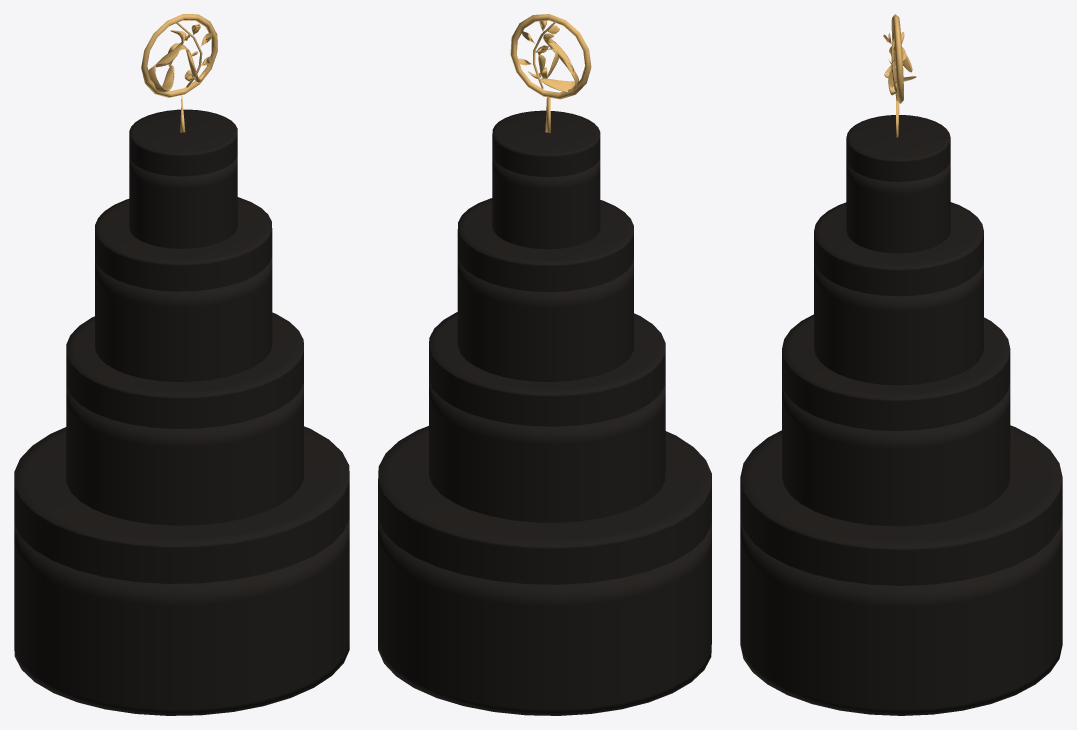
Rendered from 4-tier-black-none-ring.glb.
The picture shows the model from 3 angles, left to right: view 1: azimuth 30°, elevation 25°; view 2: azimuth 150°, elevation 25°; view 3: azimuth 270°, elevation 25°; orthographic projection.
Parts seen in each view (by area): view 1: 3.001, 3, 2, 1, Cylinder.006; view 2: 3.001, 3, 2, 1, Cylinder.006; view 3: 3.001, 3, 2, 1, Cylinder.006.
Part boxes in pixels (x1,y1,x2,y2): 3.001: (14, 426, 349, 715); 3: (66, 312, 303, 525); 2: (95, 197, 272, 381); 1: (129, 109, 237, 248); Cylinder.006: (141, 14, 217, 132); 3.001: (378, 426, 711, 715); 3: (429, 312, 665, 522); 2: (457, 198, 633, 381); 1: (492, 110, 600, 249); Cylinder.006: (510, 14, 591, 132); 3.001: (740, 425, 1062, 715); 3: (782, 314, 1010, 526); 2: (814, 202, 983, 385); 1: (846, 115, 950, 253); Cylinder.006: (883, 14, 916, 137).
Size of the model in its own units: 4.43 by 9.13 by 4.27.
